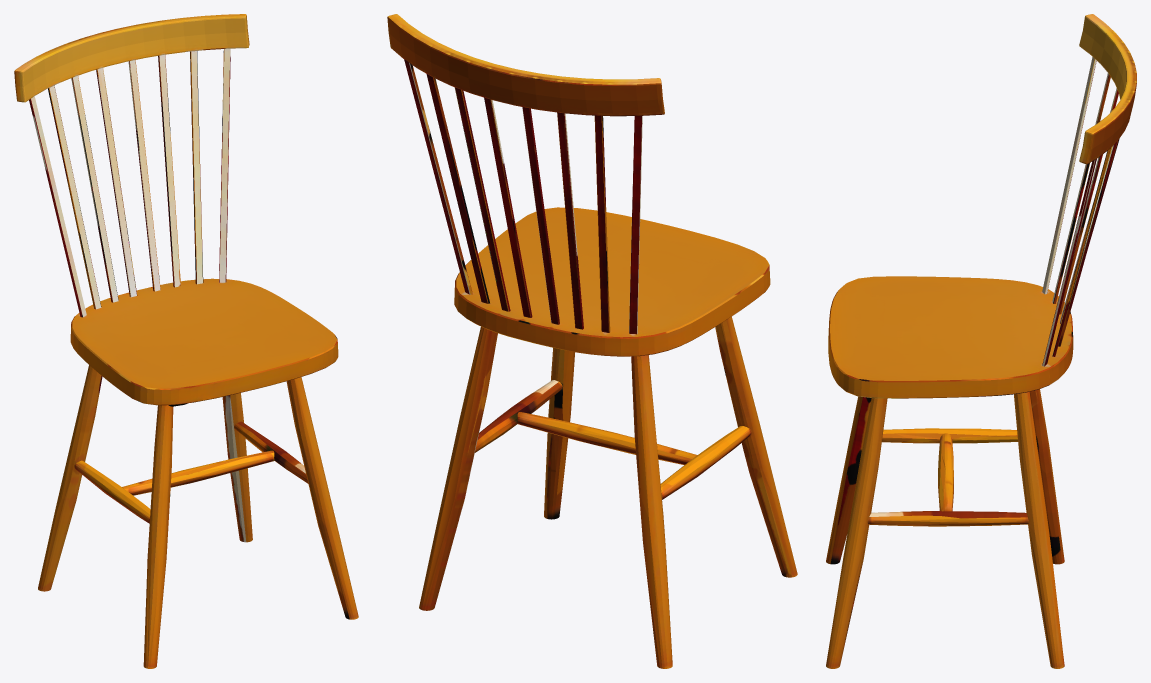
Rendered from edited_mesh.glb.
3 views of the same model, side by side, from view 1: azimuth 30°, elevation 25°; view 2: azimuth 150°, elevation 25°; view 3: azimuth 270°, elevation 25° (orthographic). The views are drawn at different scales.
Parts seen in each view (by area): view 1: normalized_model.obj; view 2: normalized_model.obj; view 3: normalized_model.obj.
Boxes of the visible parts, x1,y1,x2,y2 form: normalized_model.obj: [14, 14, 358, 668]; normalized_model.obj: [387, 14, 797, 668]; normalized_model.obj: [826, 14, 1136, 668].
Size of the model in its own units: 0.7566 by 1.59 by 0.8261.
Materials: 1 (1 with a texture image).
